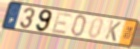0: (87, 17, 105, 41), (70, 14, 87, 37)
3: (19, 7, 36, 30)
9: (35, 9, 54, 33)
E: (50, 11, 73, 36)
K: (103, 19, 123, 43)
